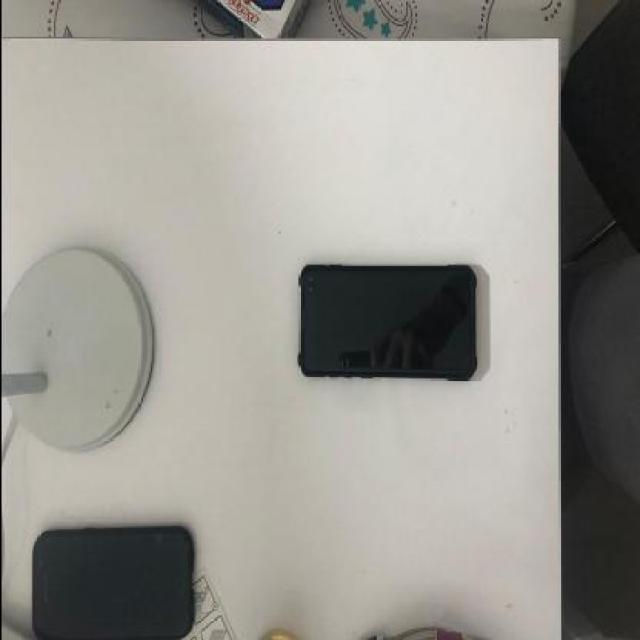phone: (297, 263, 475, 383), (31, 525, 193, 639)
